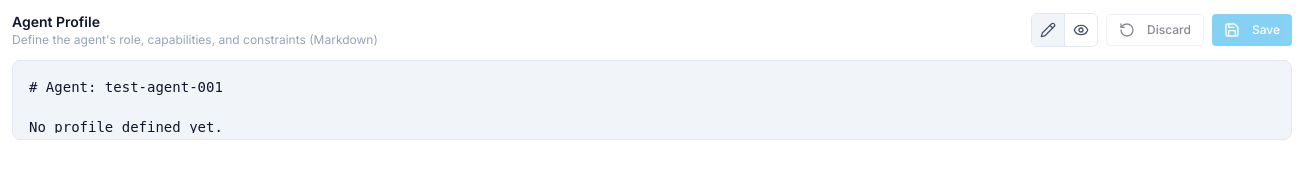
Test: AgentProfilePage › clears dirty state on save
Type " extra" into the text box with test id "profile-editor" at point(652, 97), box [13,61,1291,133]
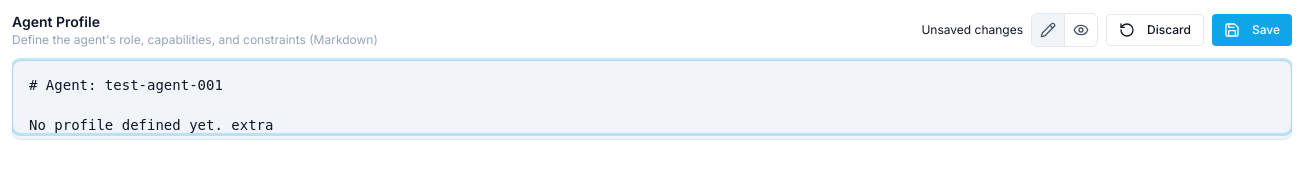
Check: the text "Unsaved changes" is shown, box [921,22,1023,38]
Click the button "Save" at point(1252, 30), box [1212,14,1292,46]
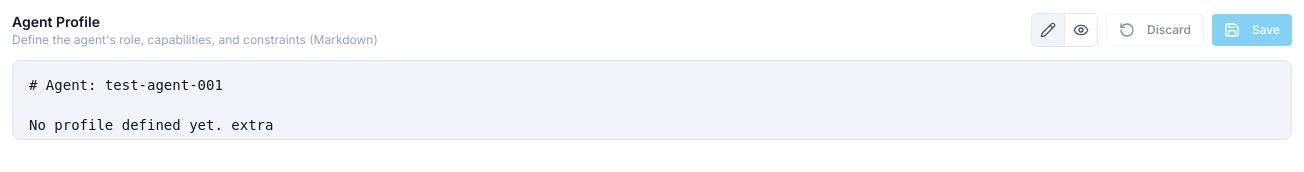
Check: the text "Unsaved changes" is gone
